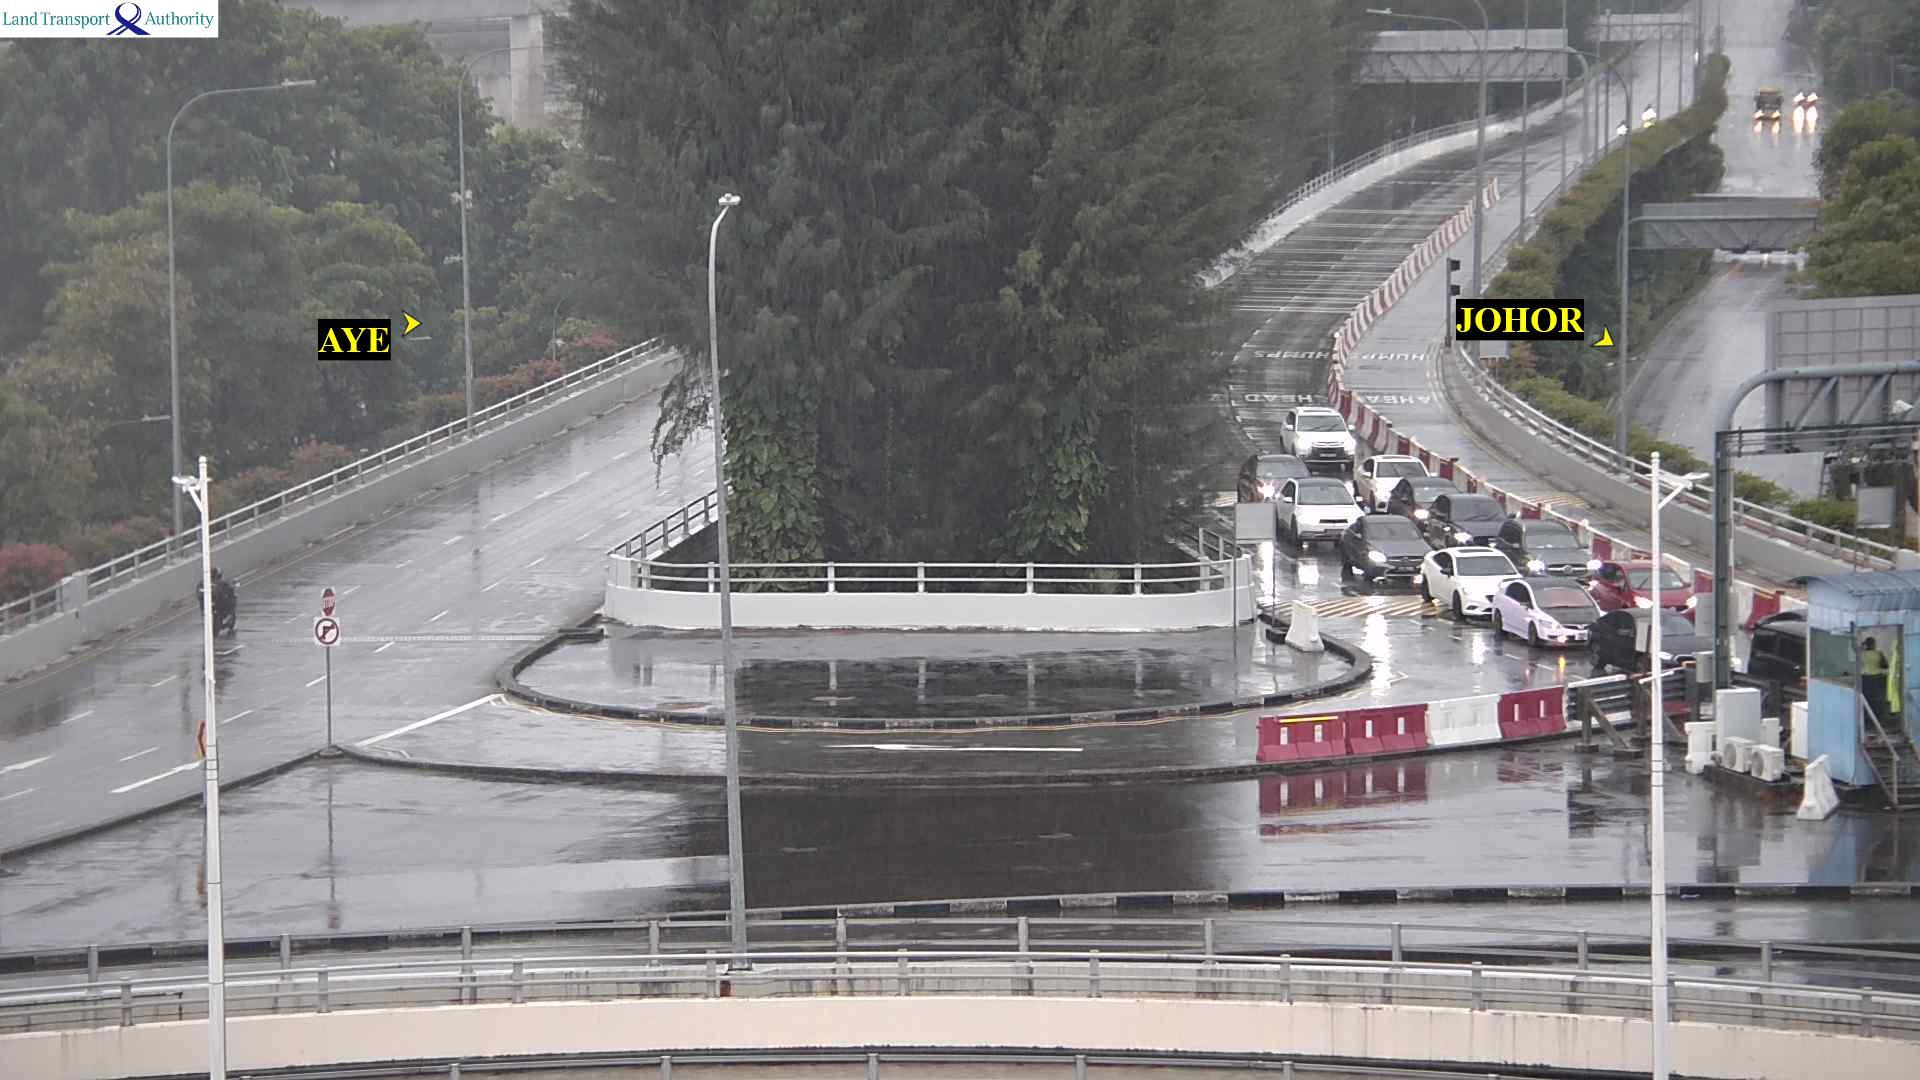vehicle-secondlink-johor: (1588, 608, 1710, 669), (1418, 549, 1522, 604), (1494, 588, 1602, 640), (1279, 480, 1365, 545), (1498, 517, 1596, 572), (1338, 521, 1432, 575), (1590, 563, 1698, 609), (1353, 448, 1429, 512), (1282, 407, 1357, 468), (1425, 492, 1510, 545), (1238, 455, 1312, 506), (1751, 613, 1807, 678), (1387, 479, 1462, 525)
